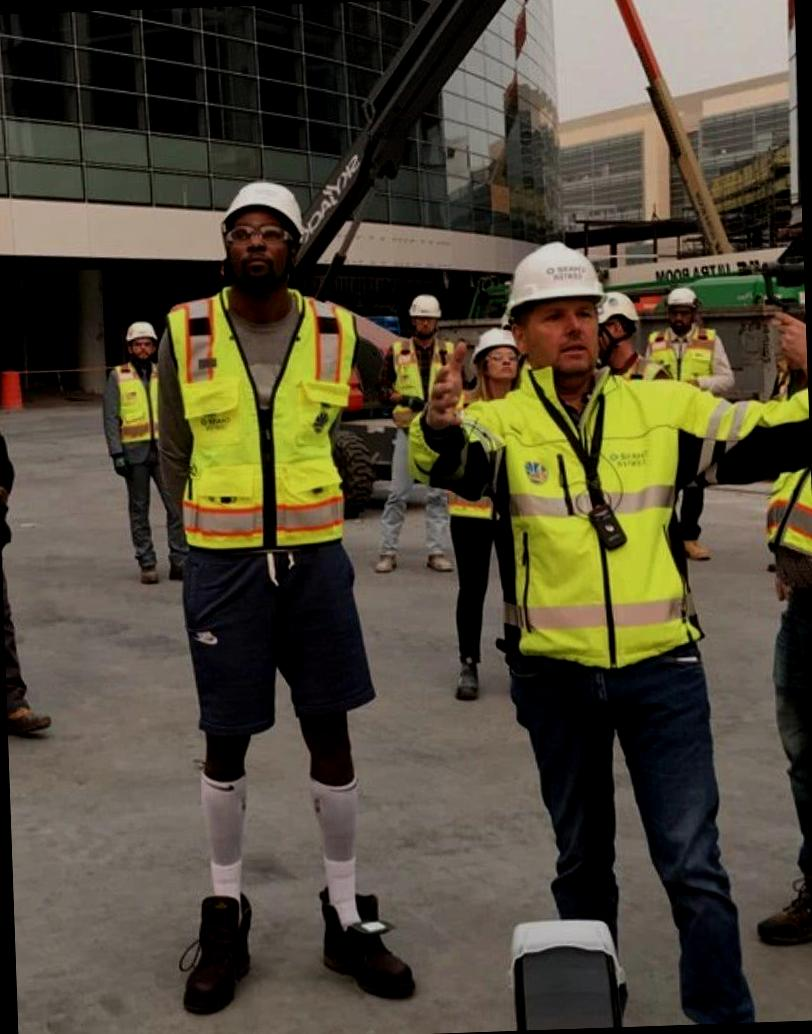helmet: (510, 235, 600, 307), (228, 171, 298, 226)
person: (115, 169, 419, 1030), (414, 231, 738, 1033)
